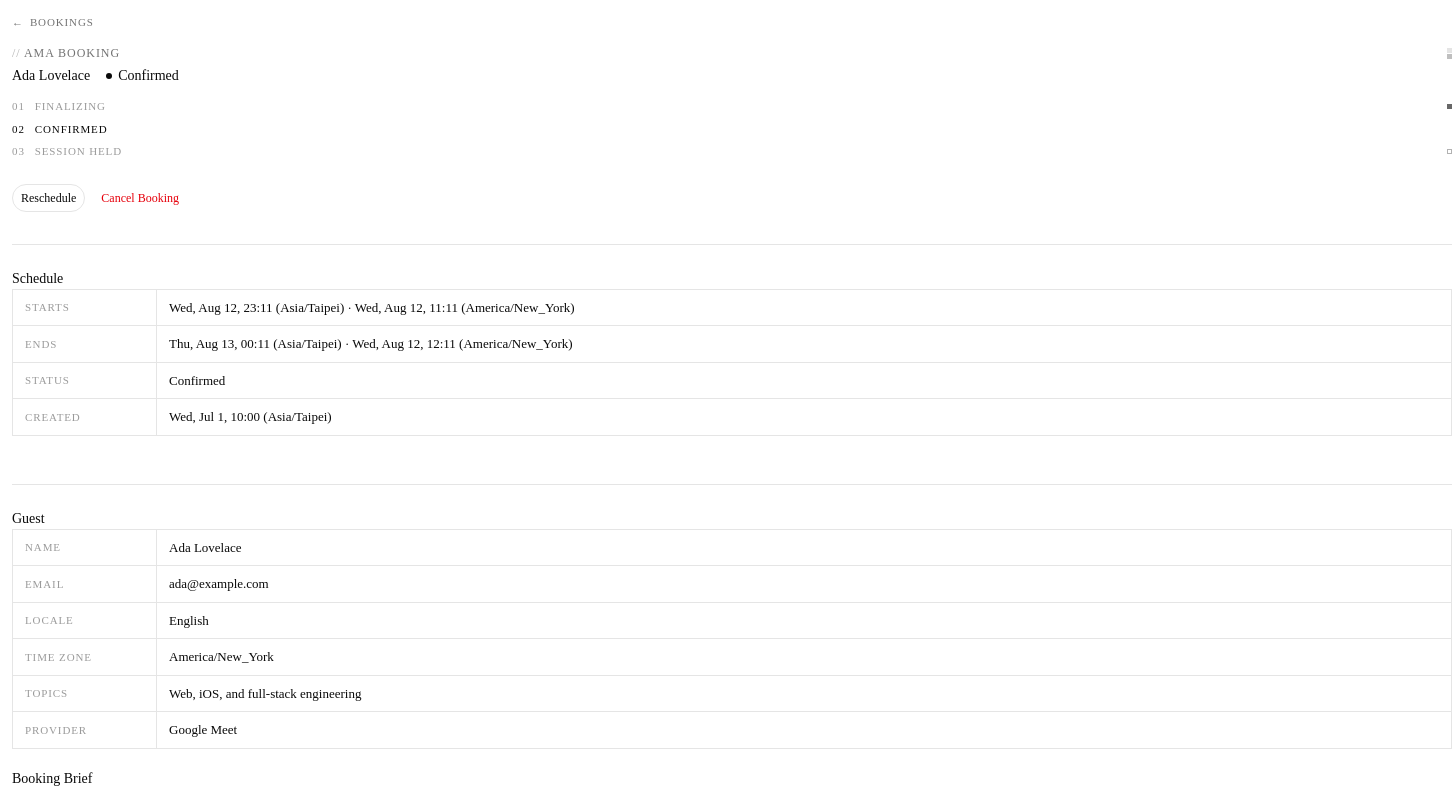
Test case: AMA booking detail › cancels through a two-step confirm and sends the refund choice
Click the button "Cancel Booking": coordinates (140, 198) [93,184,187,212]
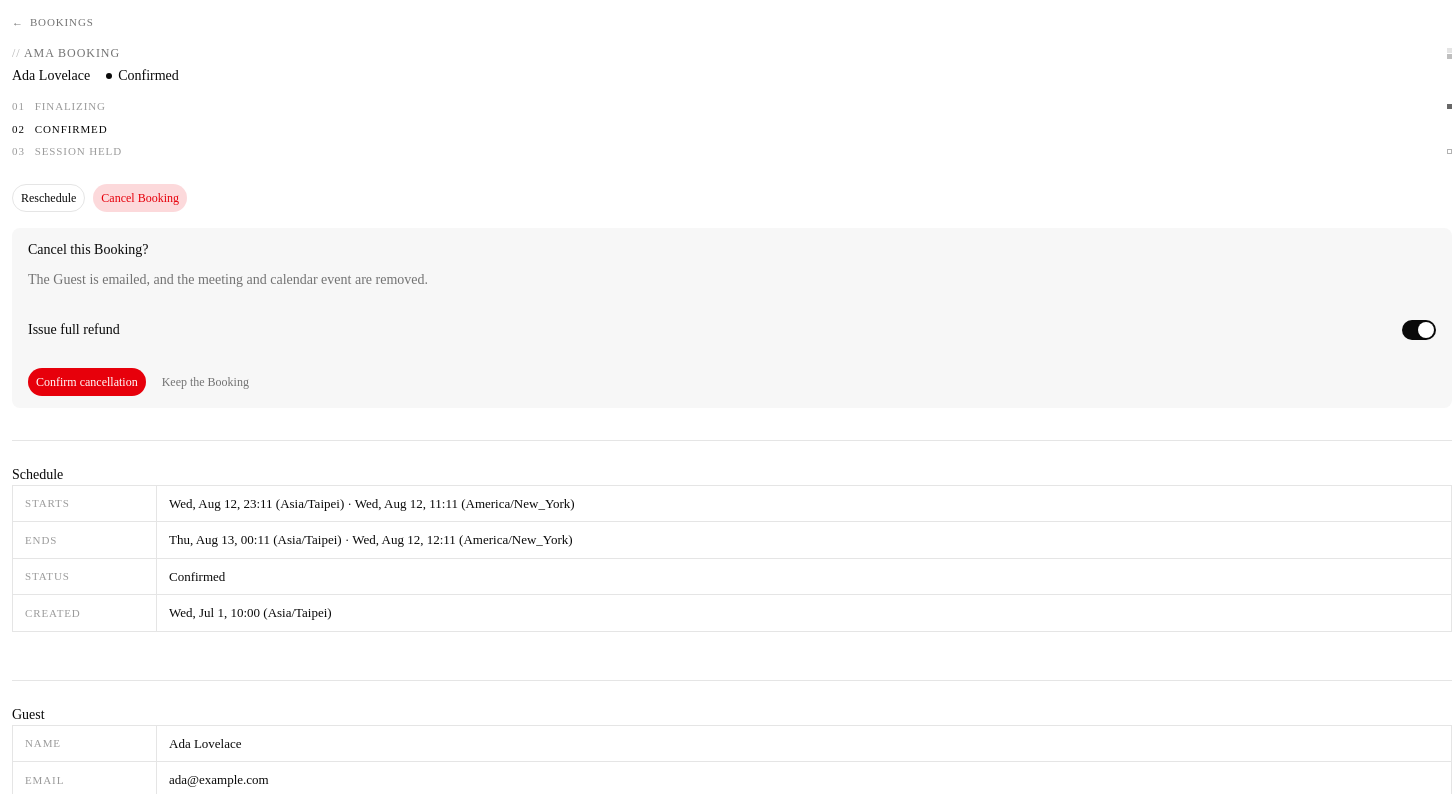
Click the button "Confirm cancellation": coordinates (87, 382) [28,368,146,396]
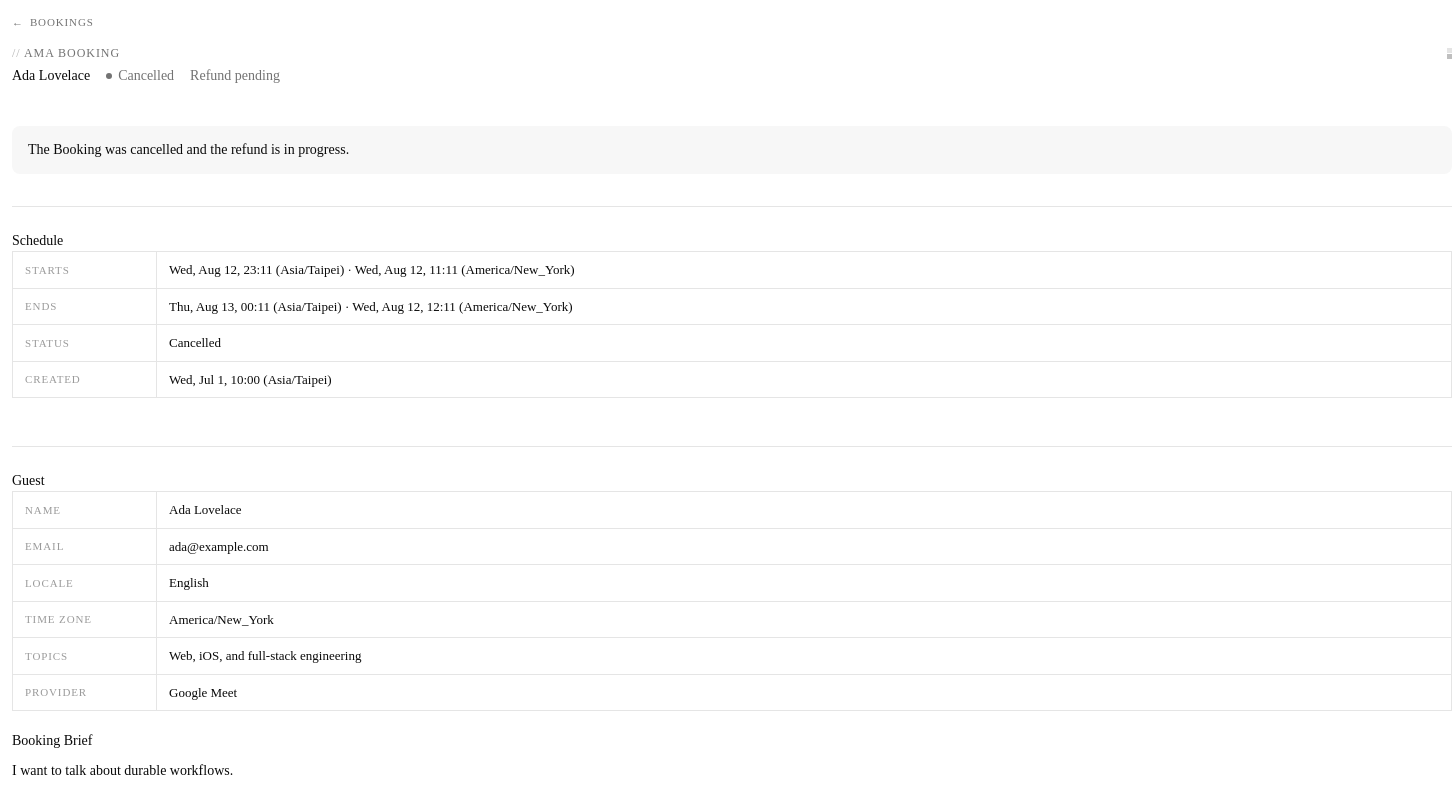
Expected: the text "was cancelled" is shown, [28,142,349,157]
